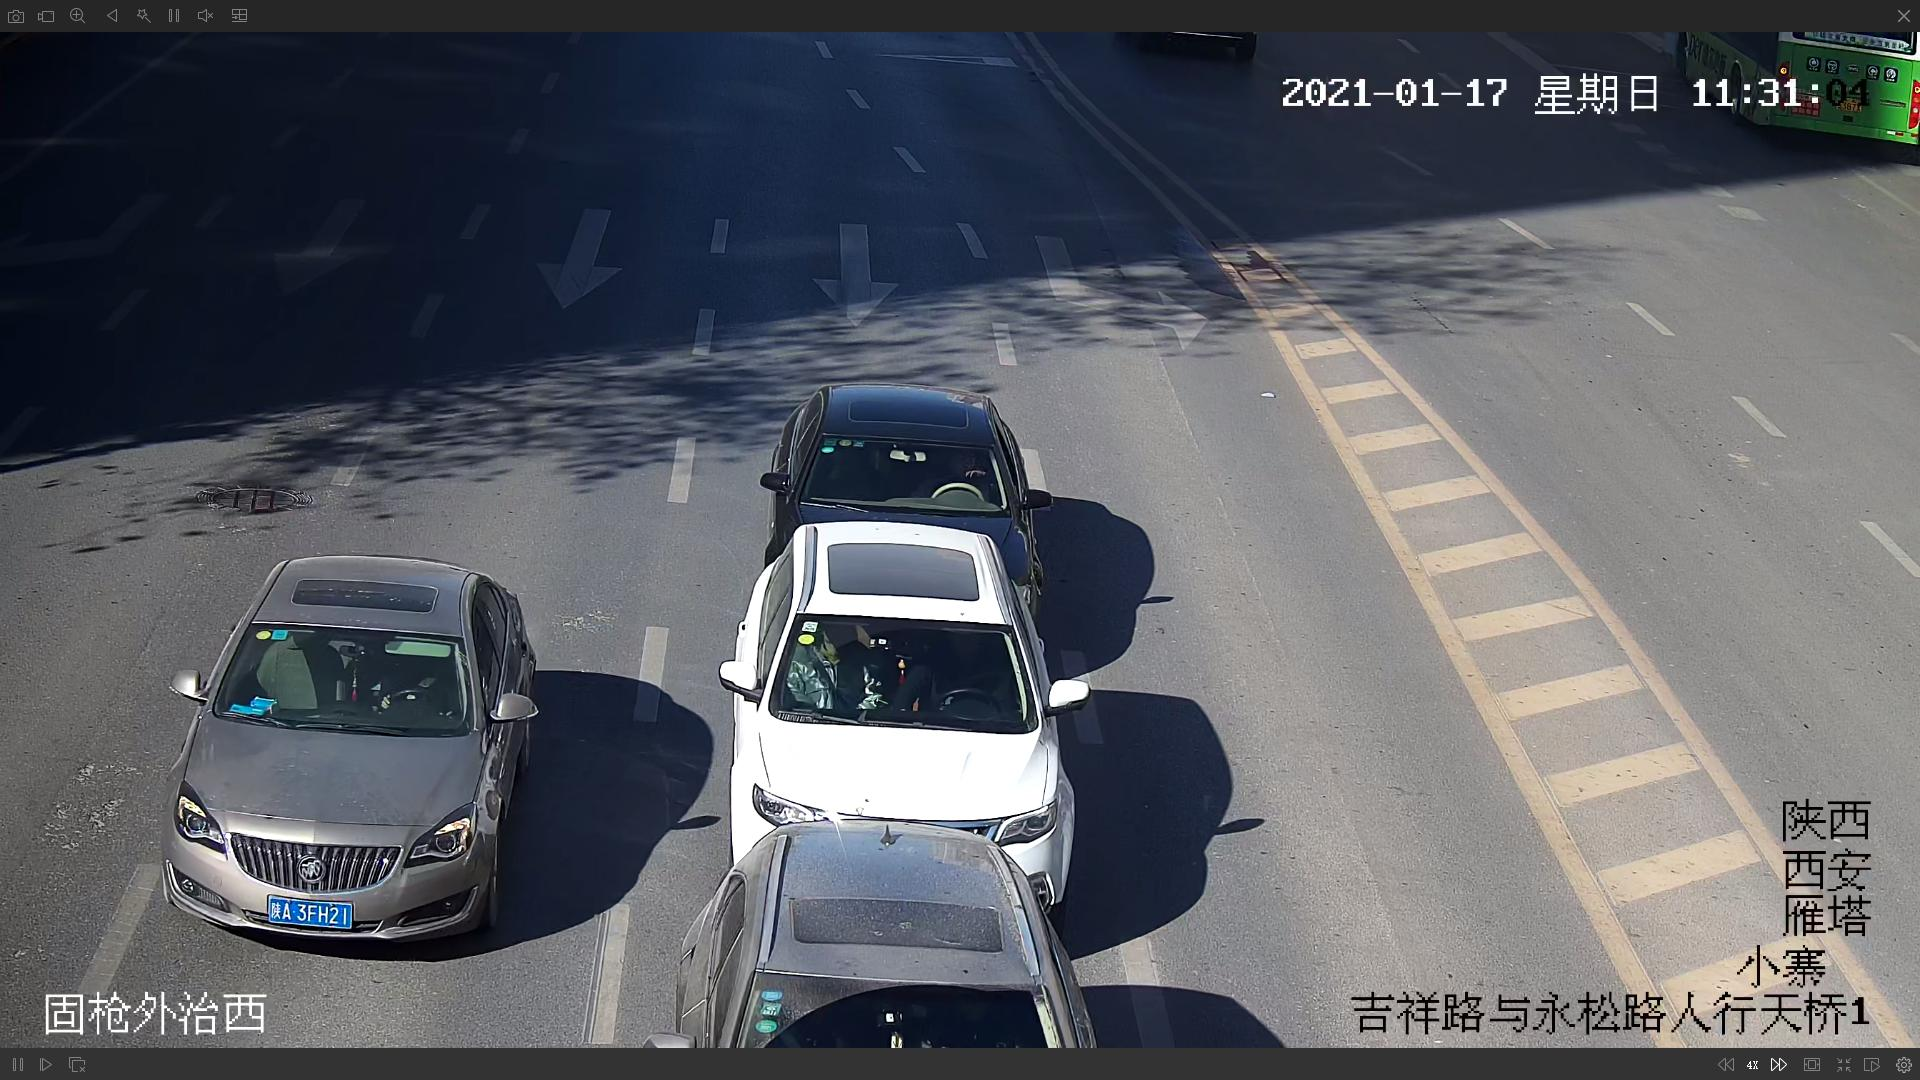silver-gray: (161, 559, 545, 949)
white: (727, 520, 1084, 895)
